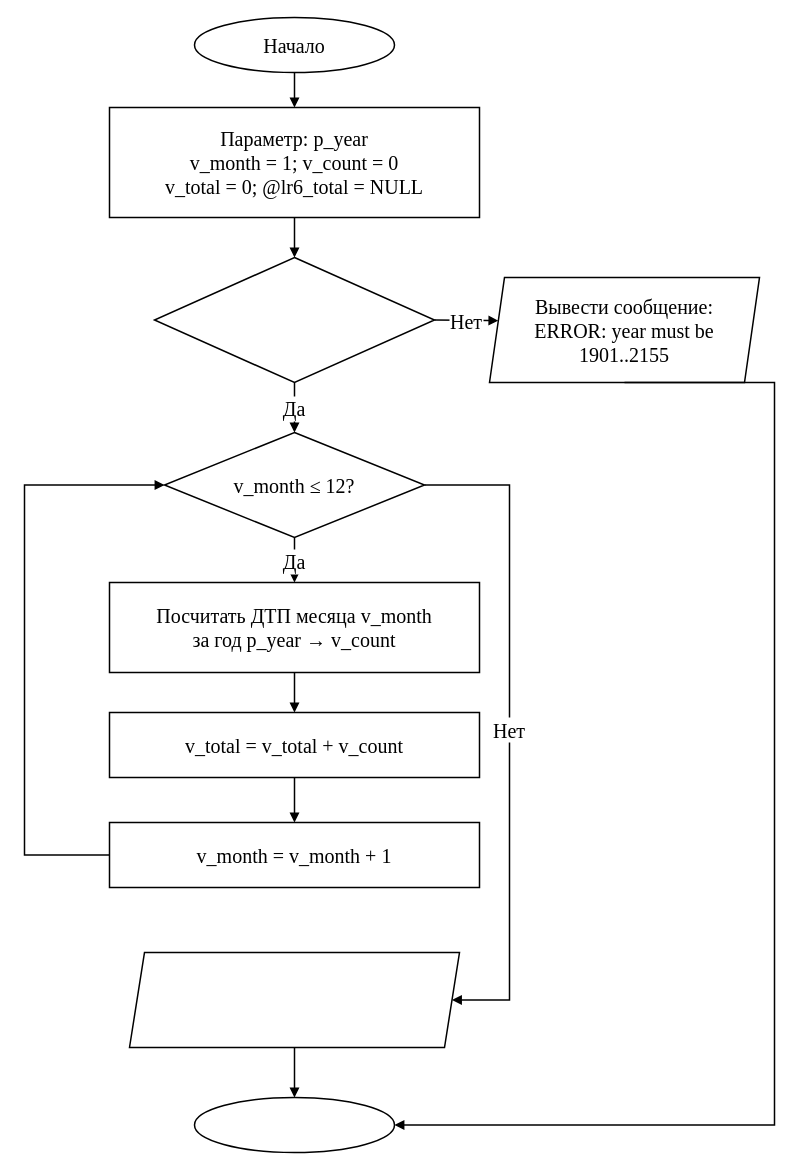
This 801x1171 diagram has some shape labels left out. The centre of each missing label's shape, as x and y in pixels:
"@lr6_total = v_total Вывести p_year и v_total" goes at point (294, 999).
"p_year не NULL и 1901 ≤ p_year ≤ 2155?" goes at point (294, 319).
"Конец" goes at point (294, 1124).
